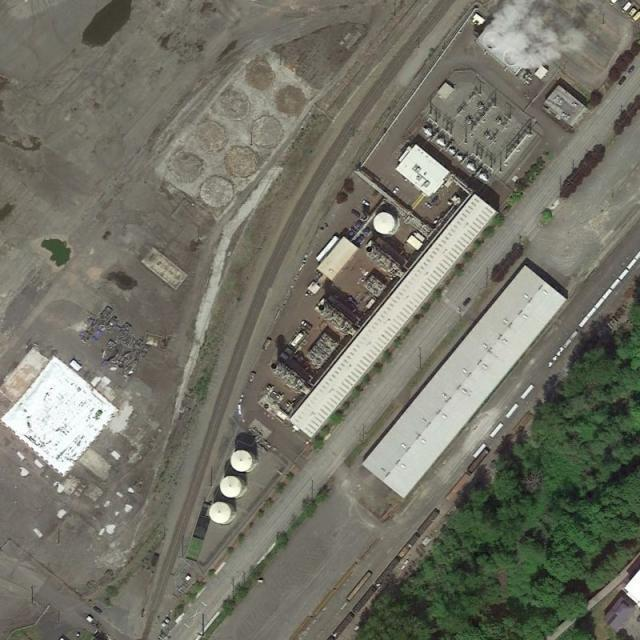vehicle: (621, 2, 632, 13), (632, 10, 640, 23), (248, 371, 255, 384), (628, 7, 637, 17), (301, 321, 312, 329), (263, 339, 271, 350), (619, 76, 627, 85), (463, 298, 470, 306), (425, 202, 432, 209), (628, 66, 634, 74), (393, 187, 399, 194), (362, 201, 369, 206)
